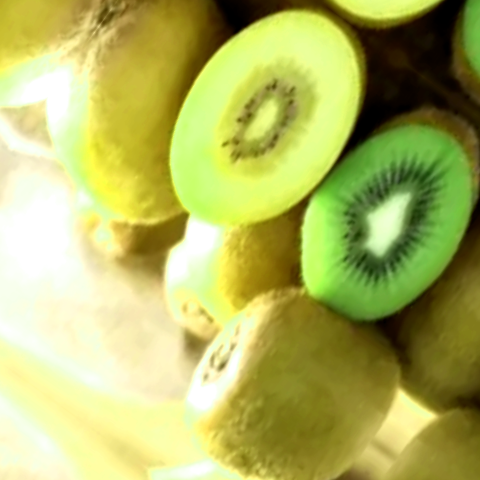kiwi: (0, 0, 329, 291), (137, 252, 434, 480)
